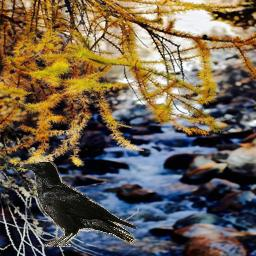Crow: (20, 161, 137, 247)
